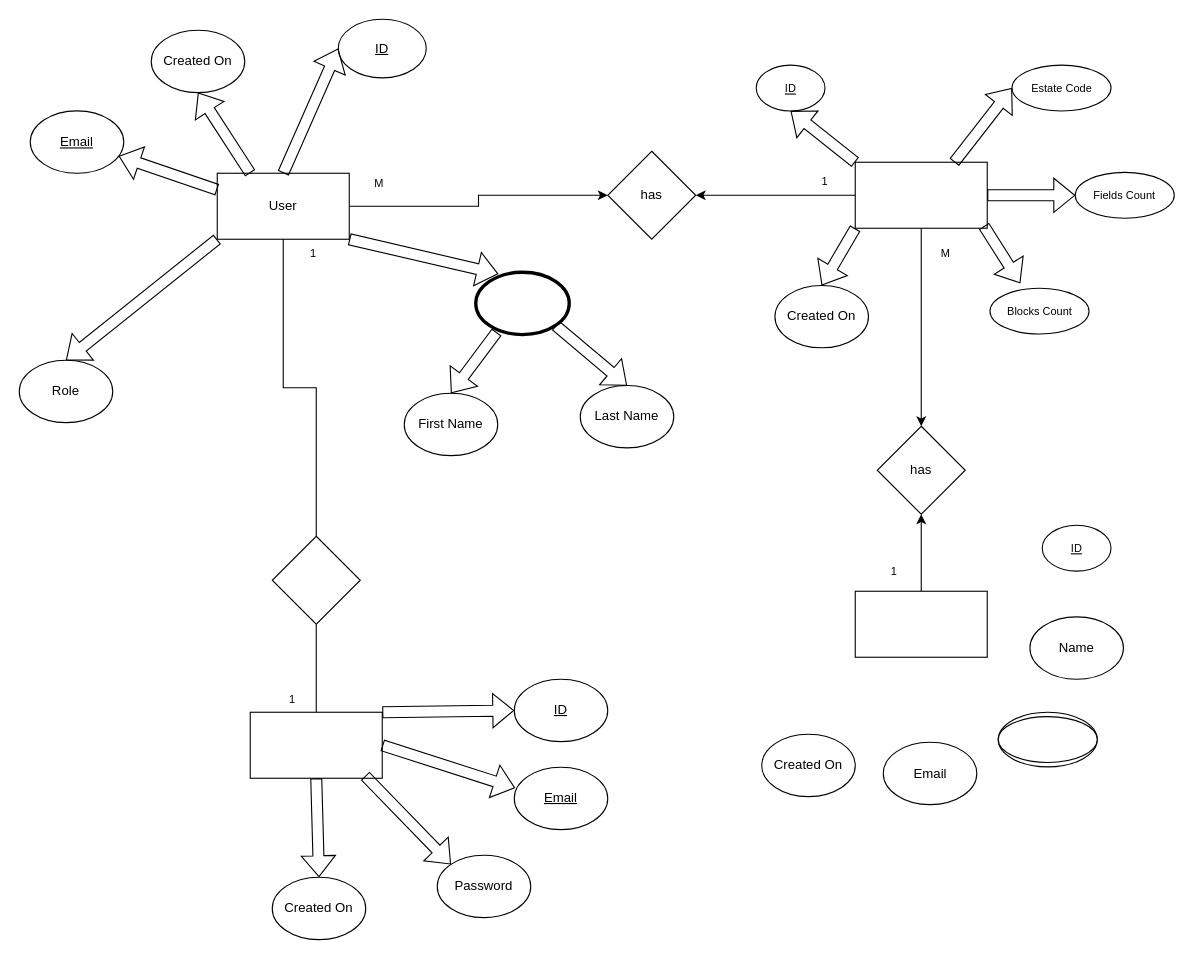
The diagram is 1194 pixels wide and 959 high, and some of its shapes have lost their labels. The box of each missing label's shape, as (x1, y1, x2, y2) in pixels:
Address: (997, 716, 1097, 763)
Auth: (249, 711, 382, 778)
Estate: (854, 161, 987, 228)
Full Name: (474, 270, 570, 336)
has to: (271, 535, 360, 624)
Head Office: (854, 590, 987, 657)
